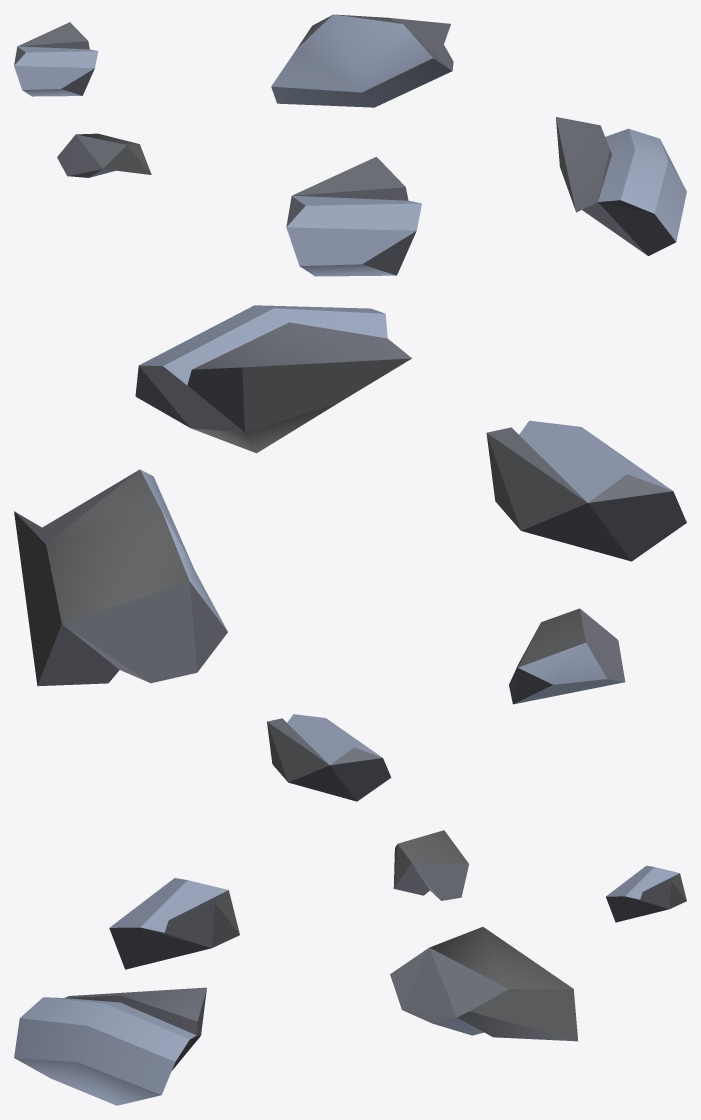
The model's file is Shell_acc_broken.FBX.
3 views of the same model, one above another, from view 1: azimuth 30°, elevation 25°; view 2: azimuth 150°, elevation 25°; view 3: azimuth 270°, elevation 25° (orthographic). The views are drawn at different scales.
Visible parts, largest first — view 1: Shell_acc_broken; view 2: Shell_acc_broken; view 3: Shell_acc_broken.
Boxes of the visible parts, left/top/right/bottom form: Shell_acc_broken: left=14, top=14, right=686, bottom=276; Shell_acc_broken: left=14, top=305, right=686, bottom=801; Shell_acc_broken: left=14, top=830, right=686, bottom=1105.
Bounding box in the file's own units: 46.76 × 11.53 × 57.74.
